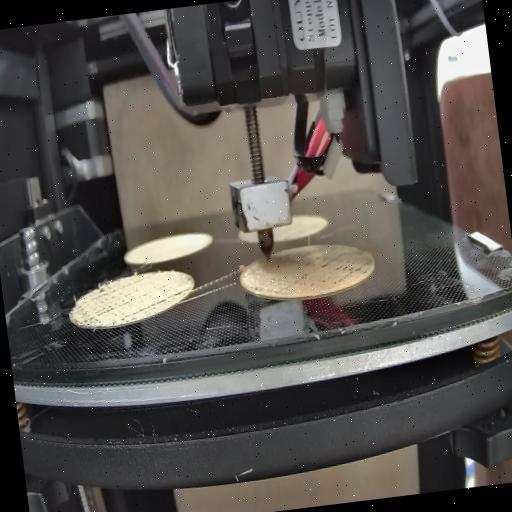under_extrusion: (250, 249, 374, 297), (68, 270, 170, 328), (170, 280, 192, 305)
